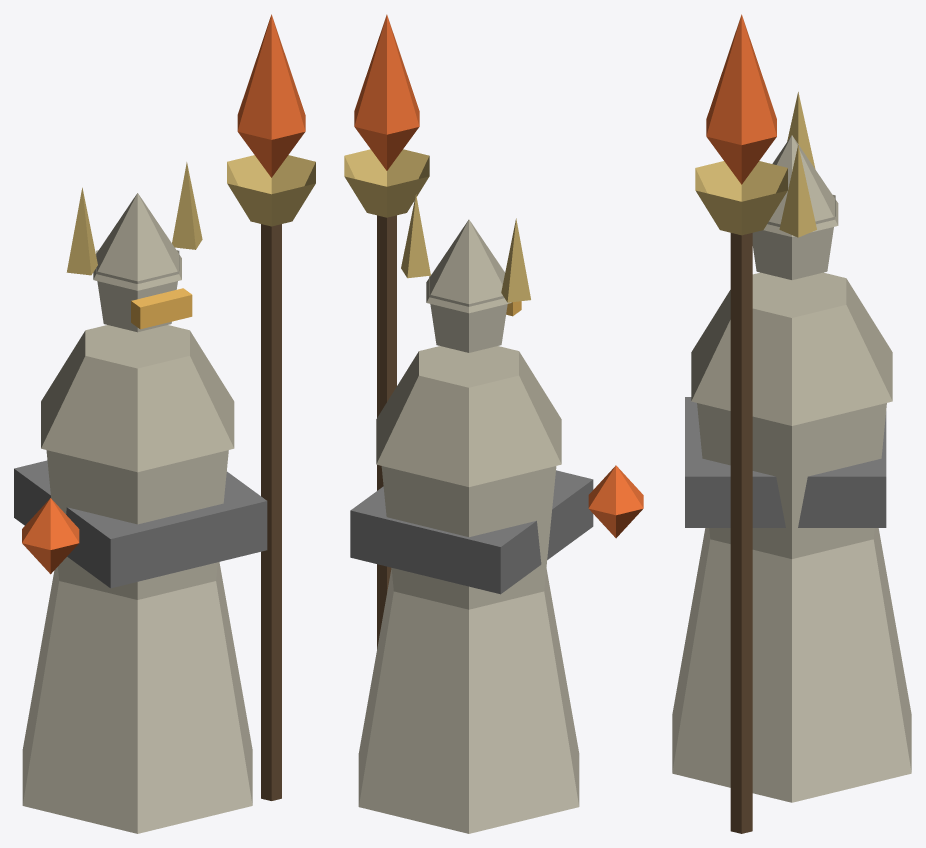
Rendered from pyromancer.obj.
3 views of the same model, side by side, from view 1: azimuth 30°, elevation 25°; view 2: azimuth 150°, elevation 25°; view 3: azimuth 270°, elevation 25° (orthographic). The views are drawn at different scales.
Parts seen in each view (by area): view 1: pyromancer; view 2: pyromancer; view 3: pyromancer.
Boxes of the visible parts, <box> form: pyromancer: <box>14,14,315,833</box>; pyromancer: <box>344,14,643,833</box>; pyromancer: <box>672,14,911,833</box>.
Size of the model in its own units: 1.16 by 2.86 by 0.7621.
